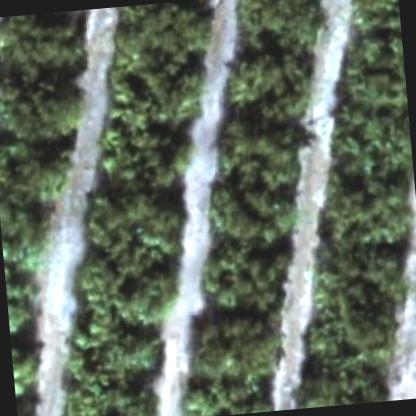Canopy-Citrus: (298, 251, 415, 357), (82, 186, 195, 282), (310, 171, 415, 261), (0, 153, 83, 260), (56, 321, 169, 397), (99, 56, 212, 132), (182, 306, 287, 386), (75, 260, 188, 334), (212, 50, 317, 127), (0, 78, 90, 167), (90, 121, 194, 196), (195, 244, 294, 320), (323, 102, 413, 184), (208, 122, 304, 197), (107, 0, 216, 66), (202, 182, 300, 254), (0, 24, 90, 95), (230, 0, 330, 63), (286, 348, 390, 408), (338, 30, 408, 118), (175, 367, 278, 415), (49, 382, 163, 415), (4, 254, 48, 331), (0, 9, 95, 37), (342, 0, 401, 41), (12, 336, 47, 394), (108, 0, 220, 16), (17, 396, 40, 415)
